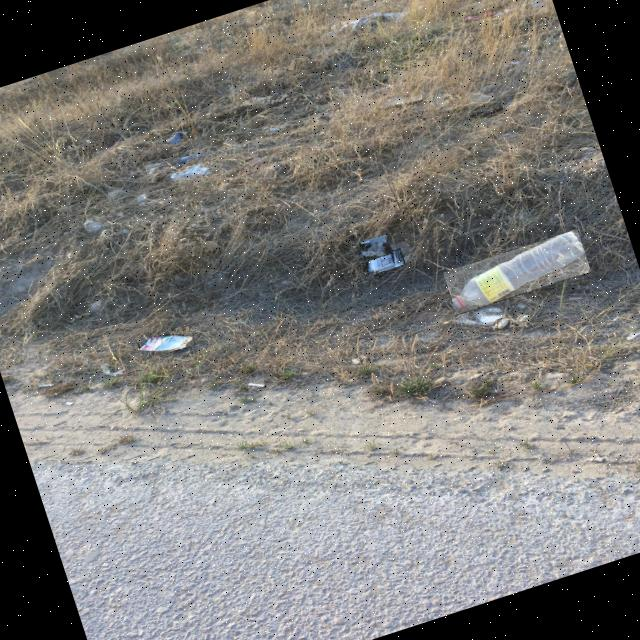Cigarette: (248, 383, 266, 387), (353, 358, 361, 364)
Clear plastic bottle: (452, 232, 585, 310)
Other carton: (368, 250, 403, 272)
Other plastic container: (139, 336, 193, 353)
Unlabeled litter: (172, 165, 210, 179), (363, 236, 388, 257), (466, 10, 505, 21)
